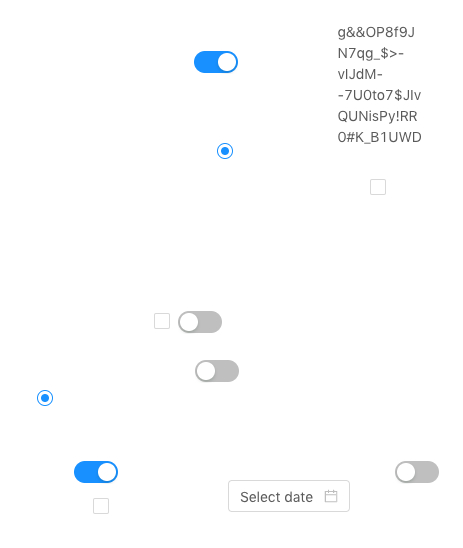Checkbox: (370, 176, 386, 197), (93, 495, 109, 516), (154, 310, 170, 331)
DatePicker: (228, 480, 350, 512)
Radio: (217, 140, 233, 160), (37, 387, 53, 407)
Switch: (178, 310, 222, 334), (194, 50, 238, 74), (74, 460, 118, 484), (195, 359, 239, 383), (395, 460, 439, 484)
Text: (338, 21, 425, 147)
